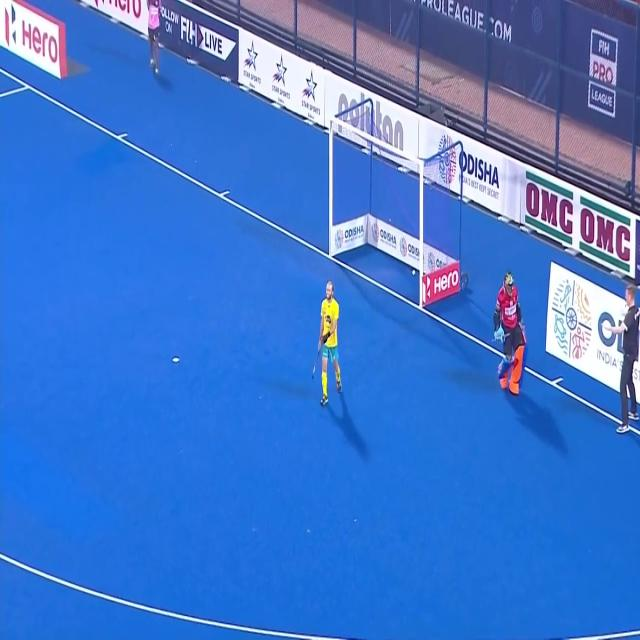ball: (411, 266, 417, 279)
